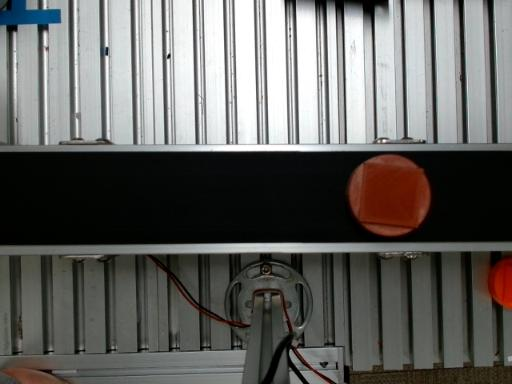Brown_Waper: (346, 154, 431, 237)
Square: (359, 163, 421, 228)
